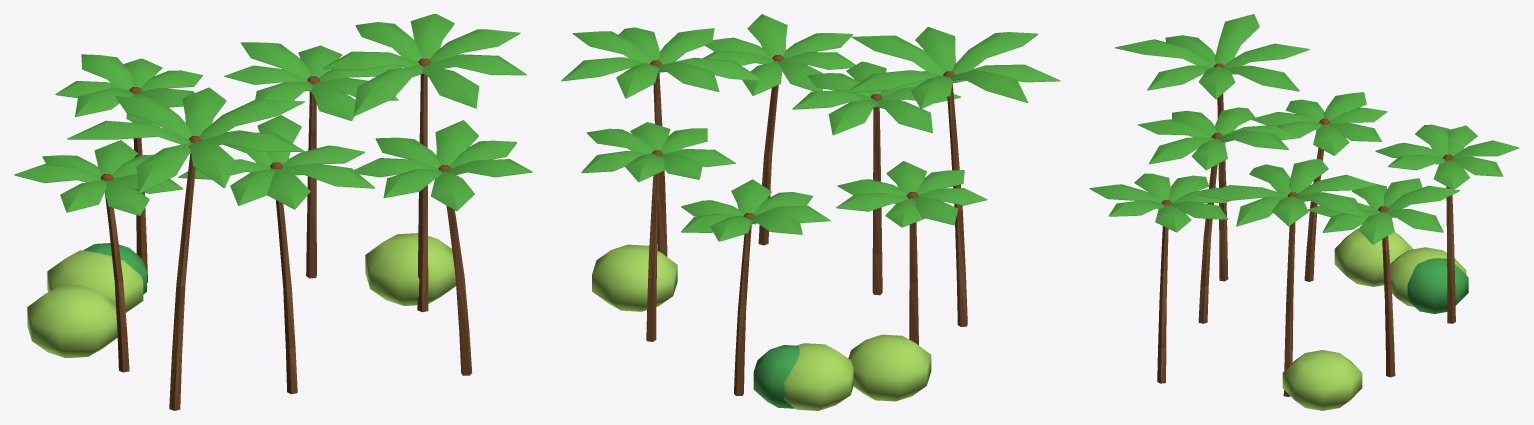
File: PalmeralJungla.fbx
3 views of the same model, side by side, from view 1: azimuth 30°, elevation 25°; view 2: azimuth 150°, elevation 25°; view 3: azimuth 270°, elevation 25° (orthographic). The views are drawn at different scales.
Visible parts, largest first — view 1: PalmeralJungla; view 2: PalmeralJungla; view 3: PalmeralJungla.
Part boxes in pixels (x1,y1,x2,y2): PalmeralJungla: [14, 14, 532, 410]; PalmeralJungla: [561, 14, 1060, 410]; PalmeralJungla: [1089, 14, 1519, 410].
Size of the model in its own units: 39.56 by 23.8 by 37.63.
Materials: 1 (1 with a texture image).
